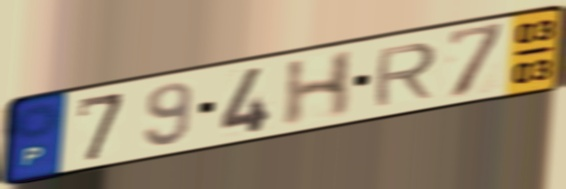4: (217, 63, 276, 137)
7: (445, 19, 508, 101), (75, 90, 128, 164)
9: (140, 81, 196, 149)
H: (279, 46, 359, 131)
R: (369, 39, 440, 110)
